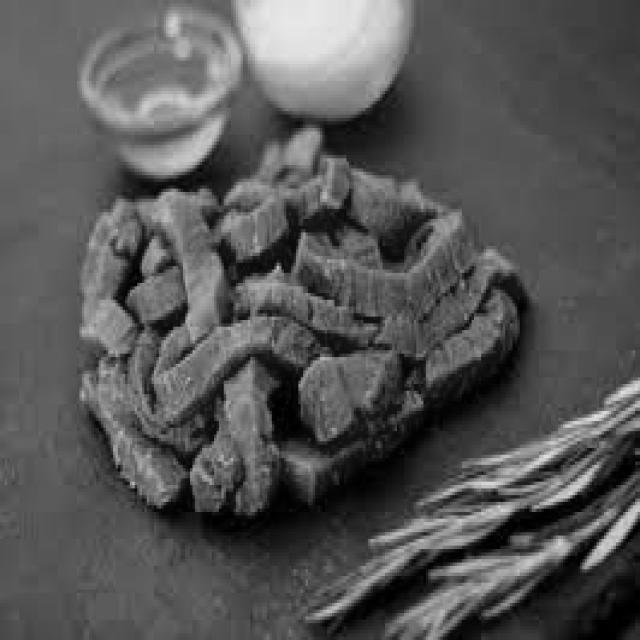meat pieces: (74, 162, 520, 428)
